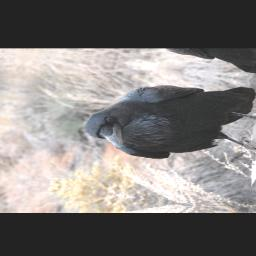Crow: (75, 65, 256, 174)
